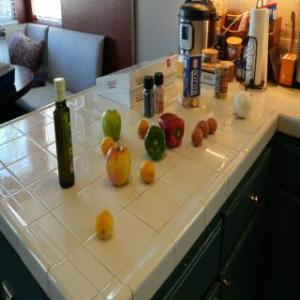bell_pepper: (159, 113, 185, 147), (145, 126, 165, 156)
egg: (195, 120, 209, 138), (206, 118, 218, 134), (192, 128, 202, 146)
onion: (235, 91, 252, 118)
